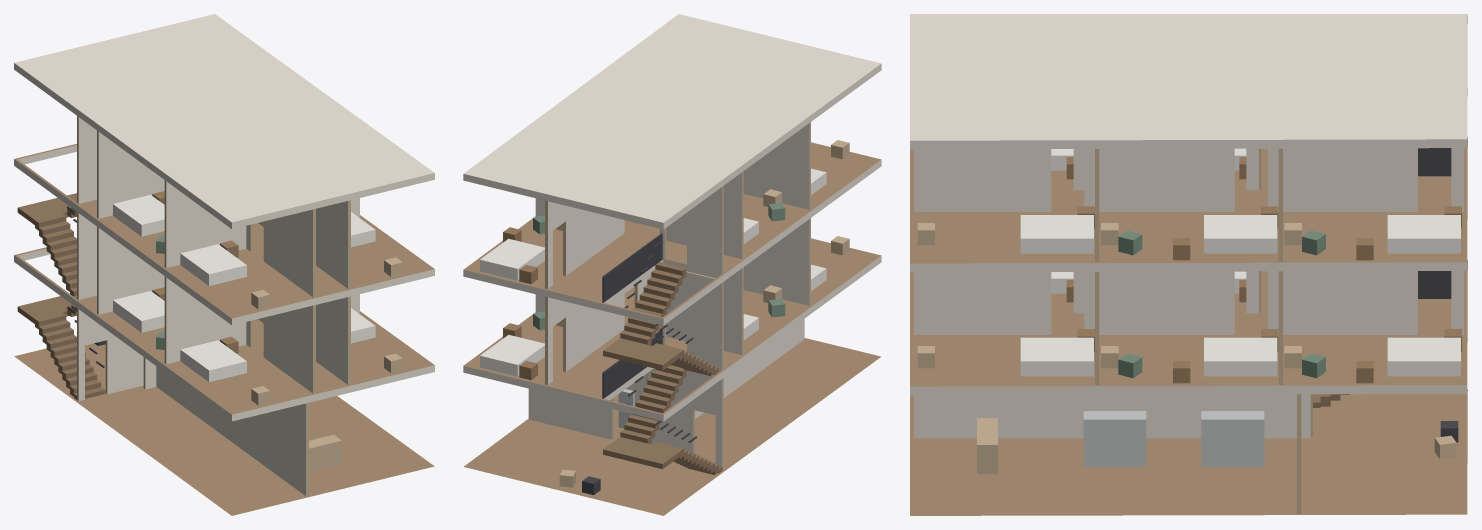
File: interior.glb
3 views of the same model, side by side, from view 1: azimuth 30°, elevation 25°; view 2: azimuth 150°, elevation 25°; view 3: azimuth 270°, elevation 25° (orthographic). The views are drawn at different scales.
Parts seen in each view (by area): view 1: slabs, partitions, stair, coarse-s1, coarse-s2, coarse-s0; view 2: slabs, partitions, stair, coarse-s2, coarse-s1, coarse-s0; view 3: slabs, partitions, coarse-s1, coarse-s2, coarse-s0, stair.
Part boxes in pixels (<box>): slabs: <box>14,14,434,515</box>; partitions: <box>77,116,359,496</box>; stair: <box>17,193,105,399</box>; coarse-s1: <box>113,287,402,405</box>; coarse-s2: <box>113,191,402,309</box>; coarse-s0: <box>94,340,341,471</box>; slabs: <box>463,14,881,515</box>; partitions: <box>528,122,810,469</box>; stair: <box>602,233,722,474</box>; coarse-s2: <box>480,140,849,283</box>; coarse-s1: <box>480,236,849,379</box>; coarse-s0: <box>559,389,634,495</box>; slabs: <box>910,14,1467,515</box>; partitions: <box>914,148,1463,514</box>; coarse-s1: <box>917,271,1461,383</box>; coarse-s2: <box>917,148,1461,260</box>; coarse-s0: <box>977,411,1458,474</box>; stair: <box>1313,148,1451,407</box>.
Size of the model in its own units: 8.15 by 11.27 by 15.15.
